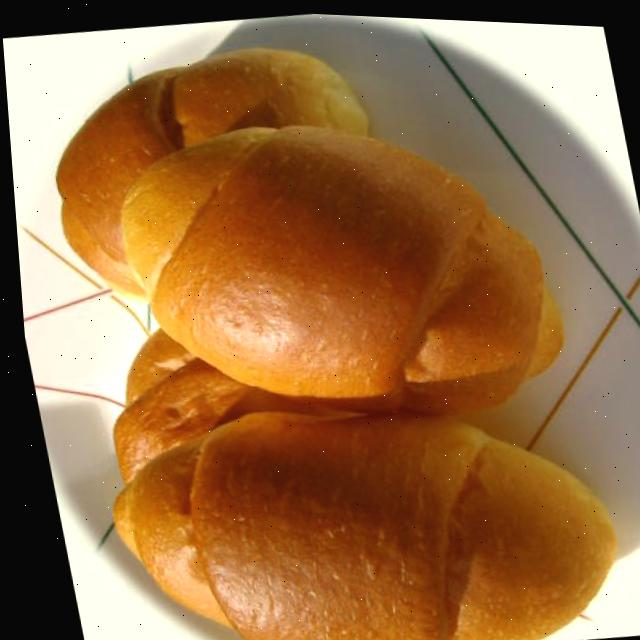面包点心: (5, 0, 633, 640)
